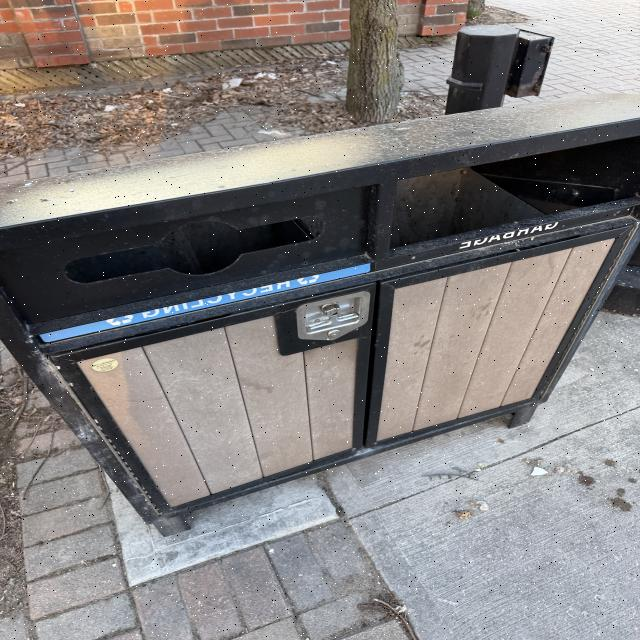Dustbin: (0, 100, 640, 540)
